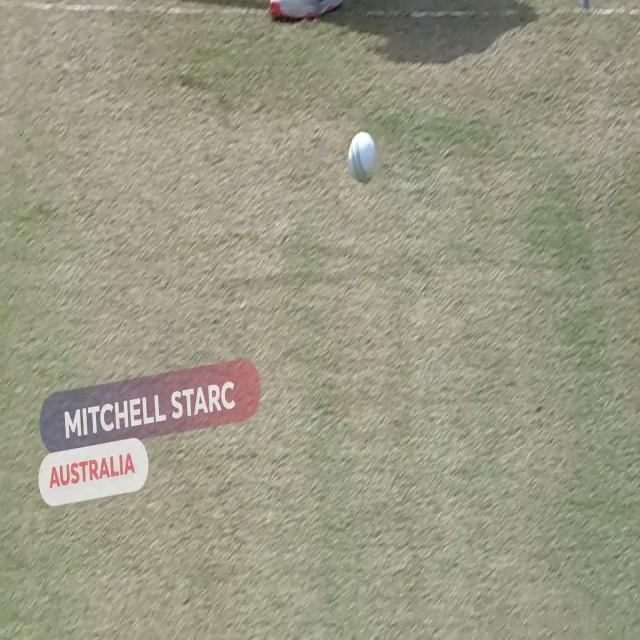ball: (346, 130, 381, 183)
